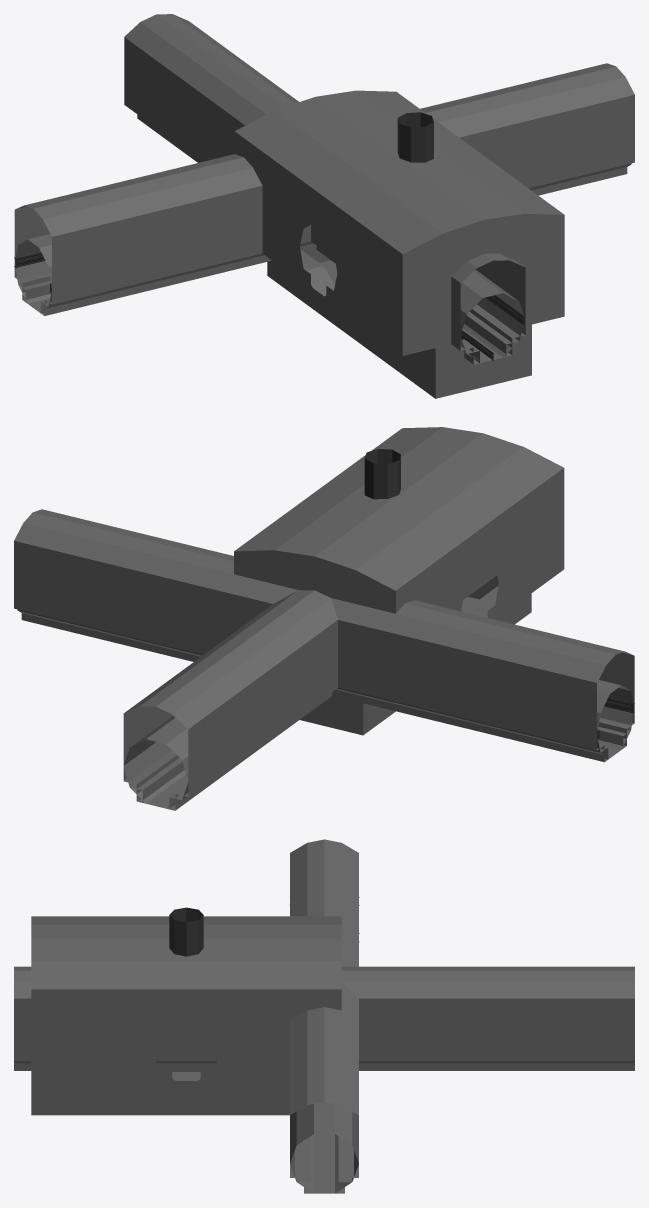
The model's file is Sewers_Tunnels.fbx.
The picture shows the model from 3 angles, top to bottom: view 1: azimuth 30°, elevation 25°; view 2: azimuth 150°, elevation 25°; view 3: azimuth 270°, elevation 25°; orthographic projection. The views are drawn at different scales.
Visible parts, largest first — view 1: SM_Sewer_Tunnels_03, SM_Sewer_Tunnel_X_03, SM_Sewer_Tunnel_90_03, SM_Sewer_Tunnel_T_03, SM_Sewer_Tunnel_Well_02, SM_Sewer_Tunnel_Well_03, SM_Sewer_Tunnel_X_02, SM_Sewer_Tunnel_X_01, SM_Sewer_Tunnel_90_01, SM_Sewer_Tunnel_Straight_02, SM_Sewer_Tunnel_90_02, SM_Sewer_Tunnels_Cables_OUT90_02; view 2: SM_Sewer_Tunnels_03, SM_Sewer_Tunnel_T_03, SM_Sewer_Tunnel_X_03, SM_Sewer_Tunnel_90_03, SM_Sewer_Tunnel_X_01, SM_Sewer_Tunnel_X_02, SM_Sewer_Tunnel_Well_03, SM_Sewer_Tunnel_T_01, SM_Sewer_Tunnel_90_01, SM_Sewer_Tunnel_Well_02, SM_Sewer_Tunnel_90_02; view 3: SM_Sewer_Tunnels_03, SM_Sewer_Tunnel_X_03, SM_Sewer_Tunnel_90_03, SM_Sewer_Tunnel_X_01, SM_Sewer_Tunnel_T_03, SM_Sewer_Tunnel_Well_03, SM_Sewer_Tunnel_X_02, SM_Sewer_Tunnel_T_01, SM_Sewer_Tunnel_Well_02, SM_Sewer_Tunnel_Straight_03, SM_Sewer_Tunnel_T_02.
Boxes of the visible parts, x1,y1,x2,y2 form: SM_Sewer_Tunnels_03: (234,90,564,398); SM_Sewer_Tunnel_X_03: (14,14,634,364); SM_Sewer_Tunnel_90_03: (15,154,525,363); SM_Sewer_Tunnel_T_03: (36,63,634,363); SM_Sewer_Tunnel_Well_02: (397,113,525,363); SM_Sewer_Tunnel_Well_03: (311,112,524,363); SM_Sewer_Tunnel_X_02: (14,239,524,362); SM_Sewer_Tunnel_X_01: (14,163,631,361); SM_Sewer_Tunnel_90_01: (18,234,518,360); SM_Sewer_Tunnel_Straight_02: (463,271,522,353); SM_Sewer_Tunnel_90_02: (18,280,505,360); SM_Sewer_Tunnels_Cables_OUT90_02: (15,253,523,324); SM_Sewer_Tunnels_03: (234,427,564,735); SM_Sewer_Tunnel_T_03: (14,510,604,762); SM_Sewer_Tunnel_X_03: (20,509,634,810); SM_Sewer_Tunnel_90_03: (332,561,634,761); SM_Sewer_Tunnel_X_01: (22,611,627,808); SM_Sewer_Tunnel_X_02: (123,685,634,808); SM_Sewer_Tunnel_Well_03: (306,448,496,599); SM_Sewer_Tunnel_T_01: (17,609,611,757); SM_Sewer_Tunnel_90_01: (335,680,634,757); SM_Sewer_Tunnel_Well_02: (364,449,400,498); SM_Sewer_Tunnel_90_02: (598,706,634,754); SM_Sewer_Tunnels_03: (14,916,358,1115); SM_Sewer_Tunnel_X_03: (14,843,634,1193); SM_Sewer_Tunnel_90_03: (14,839,358,1061); SM_Sewer_Tunnel_X_01: (290,1061,634,1193); SM_Sewer_Tunnel_T_03: (296,844,358,1193); SM_Sewer_Tunnel_Well_03: (15,907,215,1070); SM_Sewer_Tunnel_X_02: (290,1134,358,1193); SM_Sewer_Tunnel_T_01: (314,1103,358,1190); SM_Sewer_Tunnel_Well_02: (169,907,203,956); SM_Sewer_Tunnel_Straight_03: (14,967,358,998); SM_Sewer_Tunnel_T_02: (311,1134,351,1193).
Bounding box in the file's own units: 1801 × 595 × 1800.
